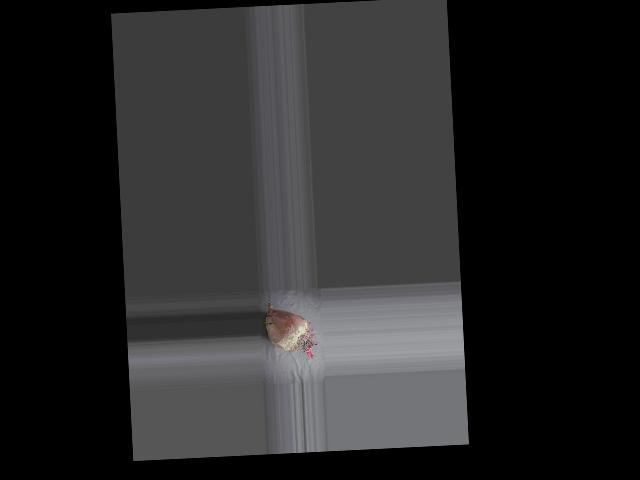beet: (264, 299, 318, 361)
